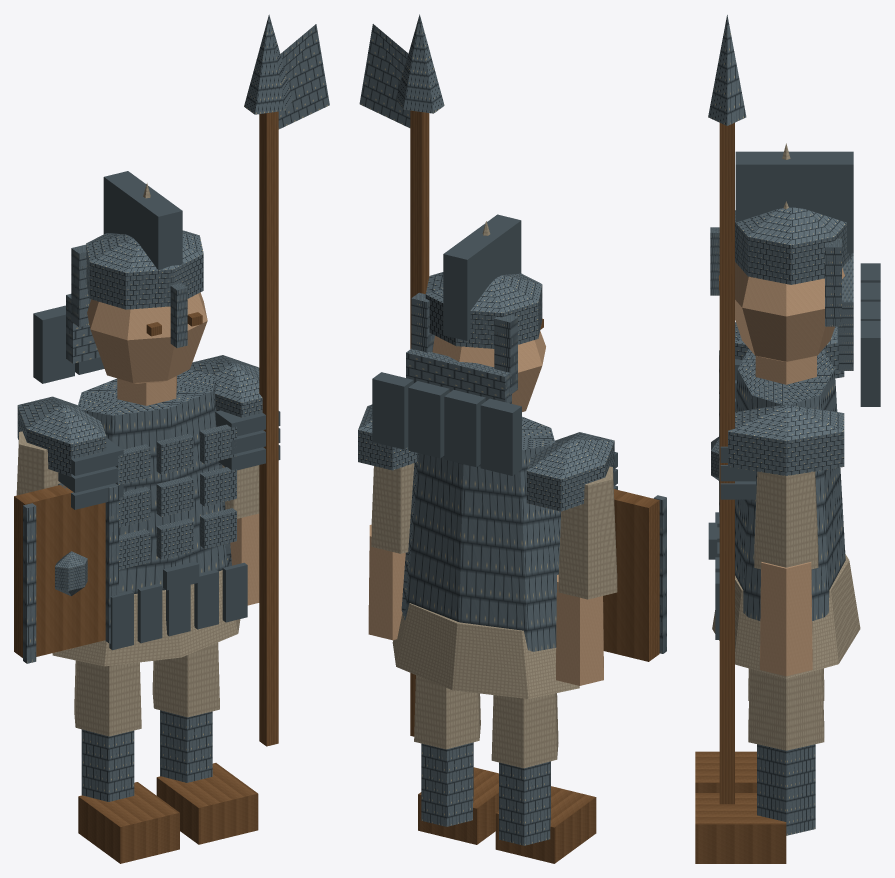
Rendered from unit-HALBERD-lod0.glb.
3 views of the same model, side by side, from view 1: azimuth 30°, elevation 25°; view 2: azimuth 150°, elevation 25°; view 3: azimuth 270°, elevation 25° (orthographic). The views are drawn at different scales.
Bounding box in the file's own units: 0.227 × 0.565 × 0.11.
1 material, 1 textured.
